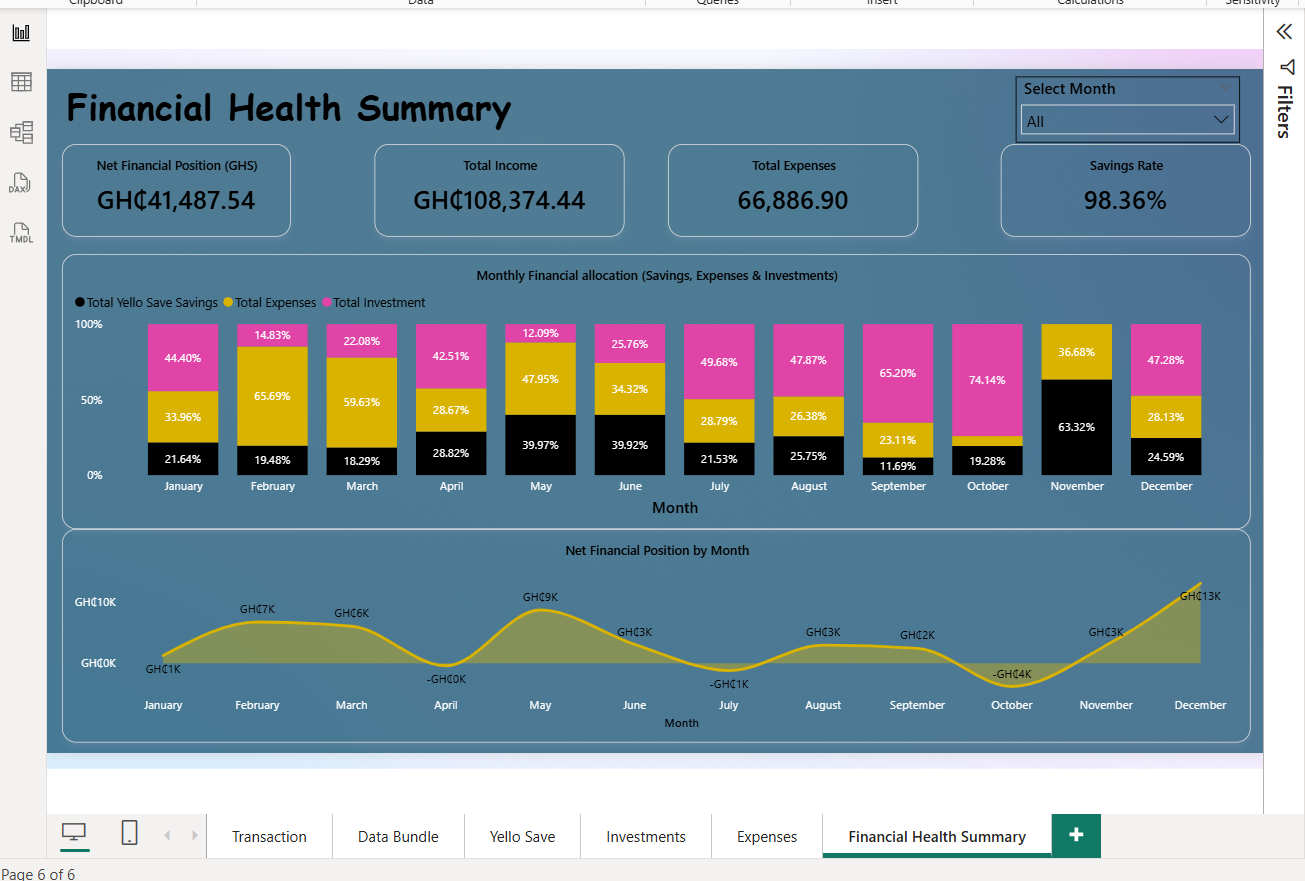

The dashboard page shown, as its layout file describes it:
{"tool":"powerbi","page":{"name":"Financial Health Summary","canvas":[1280,720],"ordinal":5},"visuals":[{"type":"card","title":"Net Financial Position (GHS)","fields":{"Values":["Calculated Measures.Net Financial Position"]},"box":[15.8,78.9,240.8,97.4],"z":0},{"type":"hundredPercentStackedColumnChart","title":"Monthly Financial allocation (Savings, Expenses & Investments)","fields":{"Category":["MoMo_Transactions.TRANSACTION DATE.Variation.Date Hierarchy.Month"],"Y":["Calculated Measures.Total Yello Save Savings","Calculated Measures.Total Other Expenses","Calculated Measures.Total Investment"]},"box":[15.8,194.7,1251.3,289.5],"z":3},{"type":"lineChart","fields":{"Y":["Calculated Measures.Net Financial Position"],"Category":["MoMo_Transactions.TRANSACTION DATE.Variation.Date Hierarchy.Month"]},"box":[15.8,484.2,1251.3,225],"z":4},{"type":"card","title":"Savings Rate","fields":{"Values":["Calculated Measures.Savings Consistency %"]},"box":[1004,78.9,263.2,97.4],"z":5},{"type":"card","title":"Total Income","fields":{"Values":["Calculated Measures.Total Income"]},"box":[344.7,78.9,263.2,97.4],"z":6},{"type":"card","title":"Total Expenses","fields":{"Values":["Calculated Measures.Total Expenses"]},"box":[653.9,78.9,263.2,97.4],"z":7},{"type":"textbox","box":[15.8,7.9,642.1,63.2],"z":8},{"type":"slicer","title":"Select Month","fields":{"Values":["MoMo_Transactions.Month Name"]},"box":[1019.6,8.2,236,70],"z":9}]}

Visuals, with their boxes in screenshot pixels (x1, y1, x2, y2):
"Net Financial Position (GHS)" card: detection(43, 134, 276, 229)
"Monthly Financial allocation (Savings, Expenses & Investments)" hundredPercentStackedColumnChart: detection(43, 247, 1256, 527)
lineChart - Calculated Measures.Net Financial Position x MoMo_Transactions.TRANSACTION DATE.Variation.Date Hierarchy.Month: detection(43, 527, 1256, 746)
"Savings Rate" card: detection(1001, 134, 1256, 229)
"Total Income" card: detection(361, 134, 617, 229)
"Total Expenses" card: detection(661, 134, 917, 229)
textbox: detection(43, 65, 665, 127)
"Select Month" slicer: detection(1016, 66, 1245, 134)
